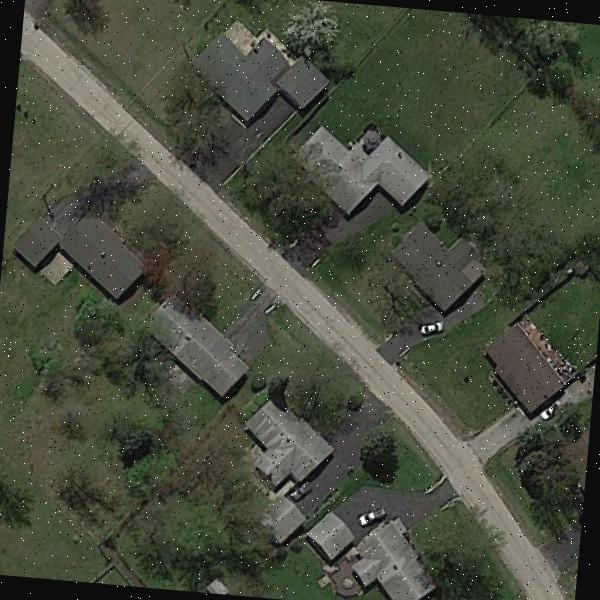Buildings: (310, 518, 429, 598), (28, 216, 144, 295), (314, 132, 426, 202), (211, 41, 321, 110), (236, 410, 331, 487), (163, 305, 248, 390), (489, 320, 565, 406), (394, 228, 477, 304)
